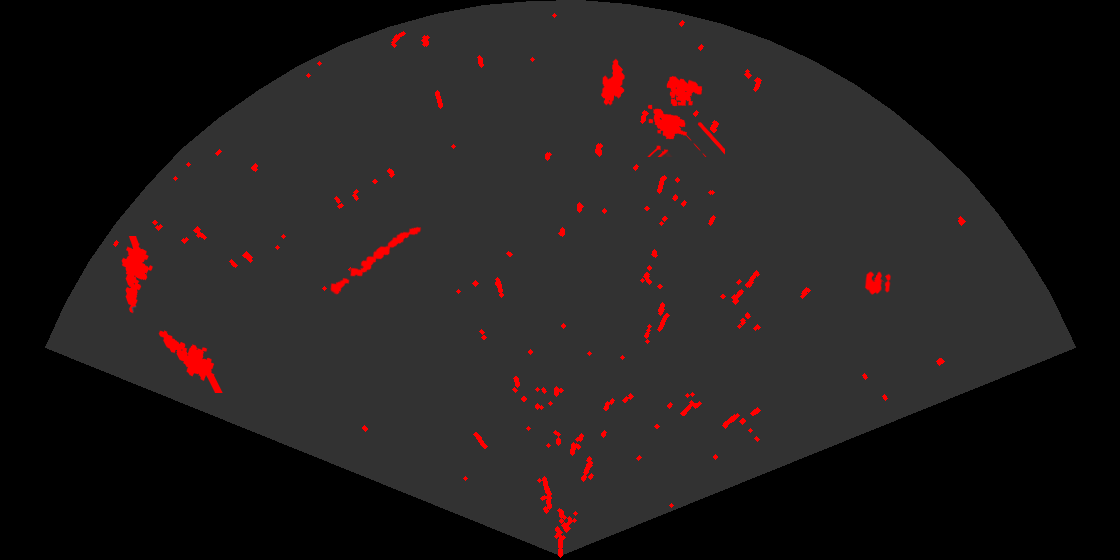AUV: (600, 57, 626, 107)
ball: (863, 270, 893, 296)
cage: (646, 74, 725, 157)
chain: (329, 225, 423, 296)
frogman: (157, 329, 224, 393), (120, 236, 154, 315)
